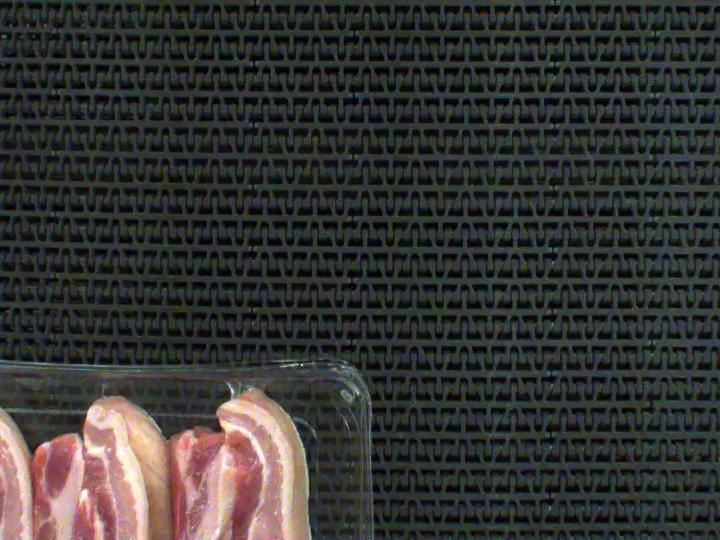packaging-error: (202, 338, 302, 420), (90, 370, 150, 417)
